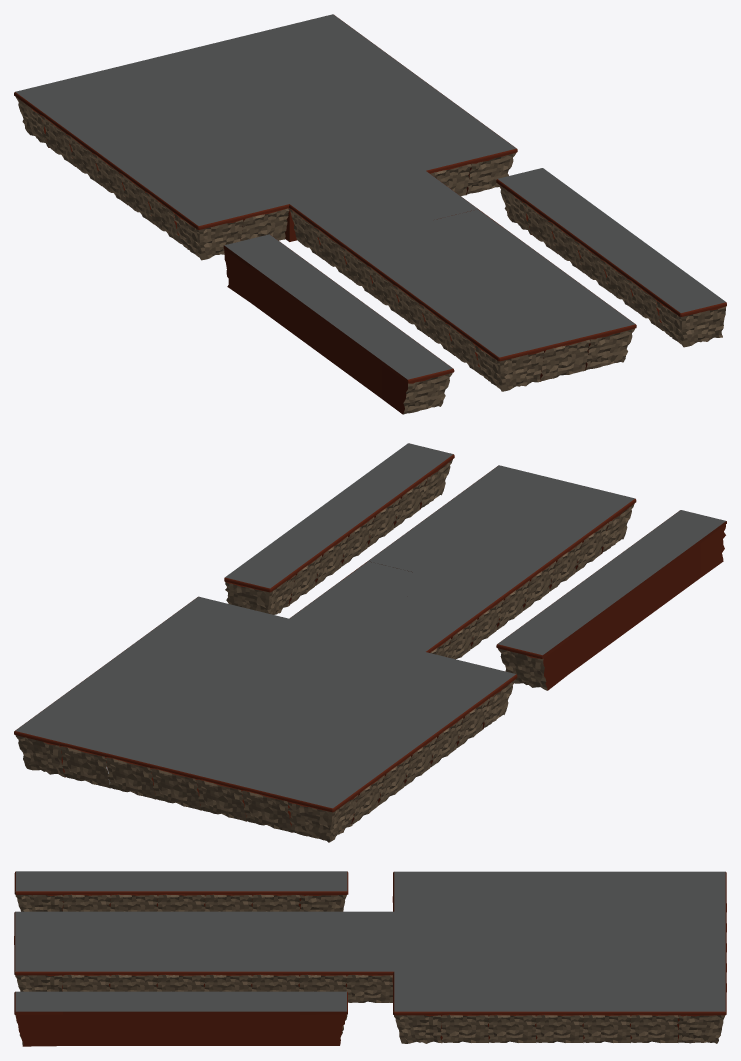
The model's file is CastilloPuebloTerreno.fbx.
3 renders of one model, top to bottom at view 1: azimuth 30°, elevation 25°; view 2: azimuth 150°, elevation 25°; view 3: azimuth 270°, elevation 25°, orthographic. The views are drawn at different scales.
Parts seen in each view (by area): view 1: SueloEsquina1 (×2), SueloEsquina3 (×2), SueloEsquina2 (×2), SueloLateral20 (×2), SueloLateral18 (×2), SueloLateral17 (×2), SueloLateral19 (×2), SueloEsquina5, SueloLateral10 (×2), SueloLateral6 (×2), SueloLateral9 (×2), SueloLateral8 (×2) (+56 smaller); view 2: SueloEsquina3 (×2), SueloLateral18 (×2), SueloLateral20 (×2), SueloLateral19 (×2), SueloLateral17 (×2), SueloLateral14 (×2), SueloEsquina2 (×2), SueloEsquina1 (×2), SueloLateral13 (×2), SueloEsquina7, SueloEsquina4, SueloLateral9 (×2) (+56 smaller); view 3: SueloLateral9 (×2), SueloLateral7 (×2), SueloLateral8 (×2), SueloLateral6 (×2), SueloLateral10 (×2), SueloEsquina3 (×2), SueloEsquina2 (×2), SueloLateral13 (×2), SueloEsquina1 (×2), SueloLateral18 (×2), SueloLateral17 (×2), SueloLateral19 (×2) (+56 smaller).
Boxes of the visible parts, x1,y1,x2,y2 form: SueloEsquina1 (×2): [171, 196, 454, 414]; SueloEsquina3 (×2): [288, 14, 726, 347]; SueloEsquina2 (×2): [445, 129, 568, 234]; SueloLateral20 (×2): [145, 177, 426, 398]; SueloLateral18 (×2): [92, 138, 373, 359]; SueloLateral17 (×2): [66, 119, 348, 340]; SueloLateral19 (×2): [118, 157, 400, 378]; SueloEsquina5: [472, 327, 545, 391]; SueloLateral10 (×2): [314, 33, 699, 330]; SueloLateral6 (×2): [419, 110, 594, 253]; SueloLateral9 (×2): [340, 52, 673, 311]; SueloLateral8 (×2): [367, 72, 647, 292]; SueloEsquina3 (×2): [14, 443, 454, 777]; SueloLateral18 (×2): [366, 567, 647, 786]; SueloLateral20 (×2): [419, 529, 700, 748]; SueloLateral19 (×2): [393, 548, 673, 767]; SueloLateral17 (×2): [340, 586, 621, 805]; SueloLateral14 (×2): [195, 622, 452, 821]; SueloEsquina2 (×2): [172, 558, 297, 626]; SueloEsquina1 (×2): [445, 510, 726, 729]; SueloLateral13 (×2): [150, 599, 360, 810]; SueloEsquina7: [496, 625, 568, 690]; SueloEsquina4: [287, 778, 360, 842]; SueloLateral9 (×2): [67, 481, 402, 703]; SueloLateral9 (×2): [110, 991, 631, 1045]; SueloLateral7 (×2): [205, 991, 536, 1045]; SueloLateral8 (×2): [157, 991, 583, 1045]; SueloLateral6 (×2): [252, 991, 489, 1045]; SueloLateral10 (×2): [63, 991, 678, 1045]; SueloEsquina3 (×2): [14, 991, 726, 1046]; SueloEsquina2 (×2): [299, 991, 442, 1045]; SueloLateral13 (×2): [346, 931, 726, 1002]; SueloEsquina1 (×2): [14, 871, 441, 911]; SueloLateral18 (×2): [157, 871, 583, 911]; SueloLateral17 (×2): [204, 871, 630, 911]; SueloLateral19 (×2): [110, 871, 536, 911].
Bounding box in the file's own units: 7074 × 830 × 15061.
